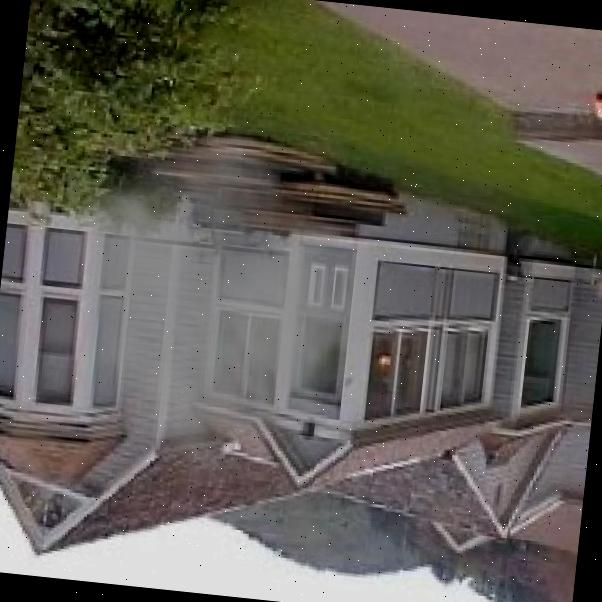smoke: (36, 90, 432, 517)
